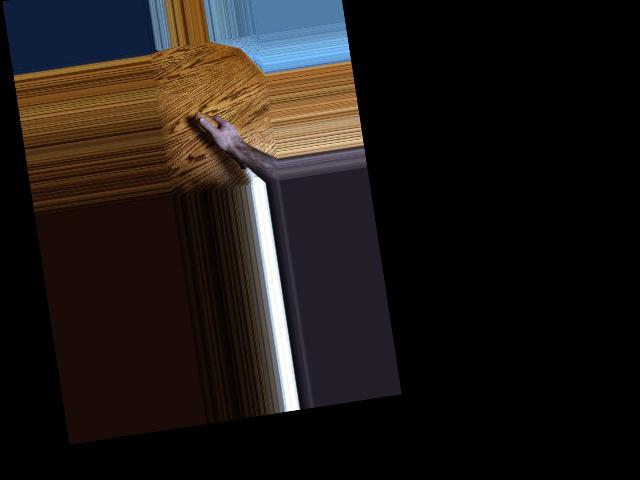sweet_potato: (193, 106, 248, 177)
